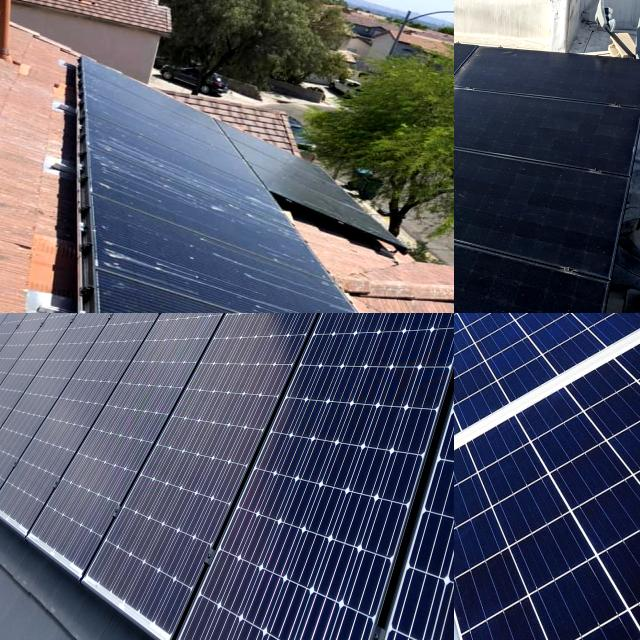bird: (242, 205, 316, 266), (423, 149, 454, 224), (175, 303, 268, 313), (298, 304, 378, 313)
crack: (454, 313, 640, 640), (454, 313, 588, 640), (454, 313, 640, 461), (314, 512, 394, 625), (214, 557, 309, 640), (371, 340, 451, 428), (394, 555, 454, 640), (356, 438, 419, 514), (348, 313, 418, 356), (437, 508, 454, 609), (429, 313, 454, 351)
dust: (454, 169, 593, 226), (462, 107, 614, 150), (454, 249, 553, 313), (454, 199, 532, 263), (454, 130, 518, 182), (454, 77, 510, 113)
